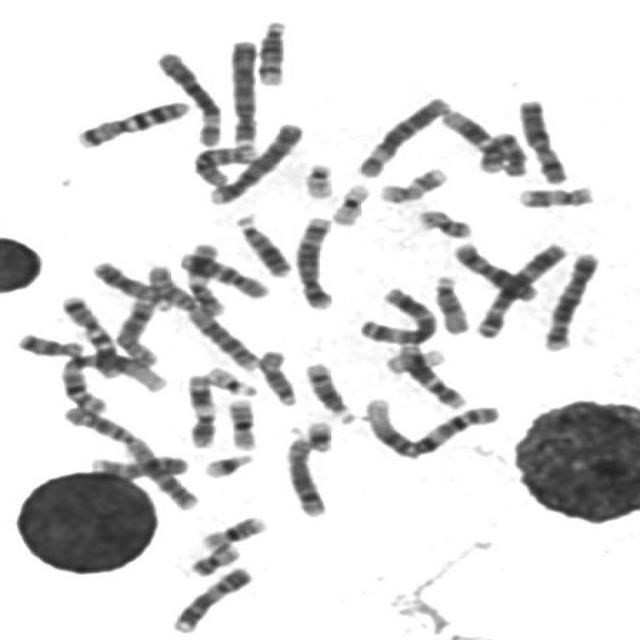A1: (356, 391, 503, 461), (53, 345, 168, 414)
A2: (55, 400, 202, 512), (138, 260, 262, 372)
A3: (468, 236, 572, 340), (350, 280, 440, 345)
B4: (202, 116, 307, 207), (222, 32, 262, 146)
B5: (536, 245, 603, 353), (287, 210, 337, 310)
C10: (171, 244, 273, 300), (186, 137, 260, 188)
C11: (180, 238, 227, 316), (179, 368, 220, 449)
C12: (434, 102, 510, 173), (392, 339, 468, 409)
C6: (348, 90, 453, 179), (148, 44, 226, 148)
C7: (68, 94, 193, 150), (53, 289, 126, 379)
C8: (277, 429, 330, 519), (109, 292, 160, 367)
C9: (164, 560, 256, 635), (81, 448, 193, 480)
D13: (84, 255, 173, 310), (228, 208, 296, 278)
D14: (297, 355, 359, 425), (248, 14, 292, 86)
D15: (250, 343, 300, 407), (427, 269, 473, 335)
E16: (193, 510, 270, 550), (220, 392, 261, 451)
E17: (371, 160, 450, 205), (510, 179, 597, 210)
E18: (10, 326, 86, 358), (486, 126, 530, 178)
F19: (323, 176, 373, 227), (377, 342, 447, 375)
F20: (410, 202, 476, 240), (181, 538, 243, 578)
G21: (196, 446, 256, 480), (299, 414, 337, 454)
G22: (199, 360, 260, 398), (296, 156, 337, 200)
X: (446, 236, 541, 303), (510, 92, 571, 186)
